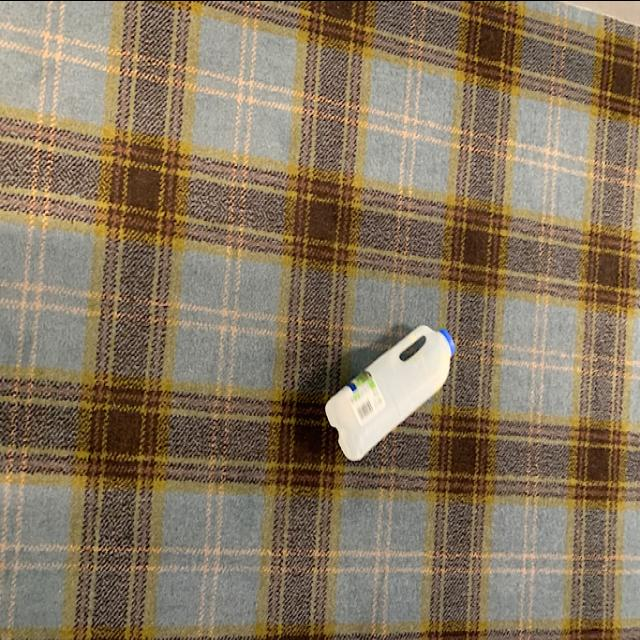litter: (324, 320, 458, 461)
